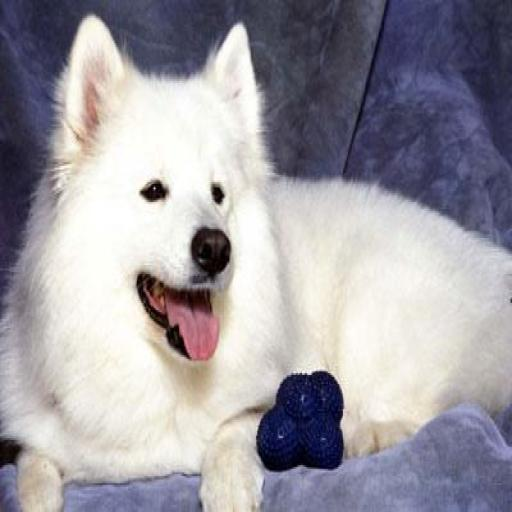dog_face: (55, 19, 255, 370)
